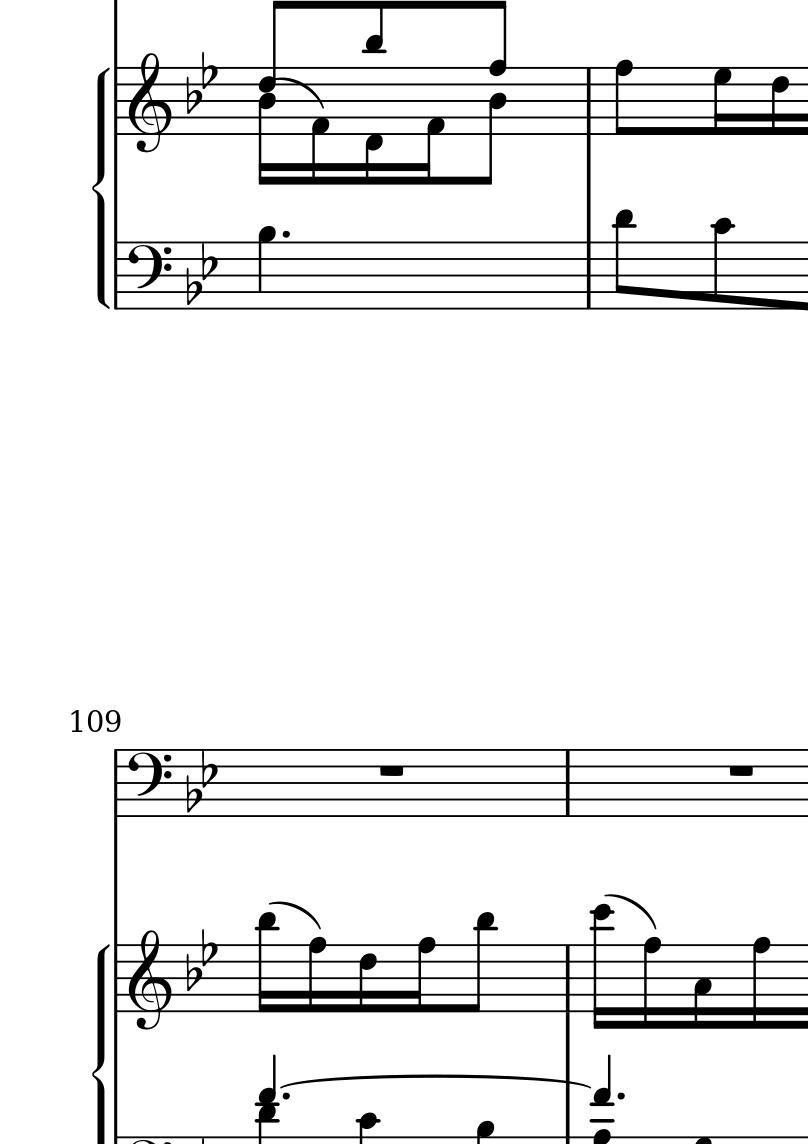0: (86, 706, 103, 735)
1: (70, 706, 85, 736)
16_-1: (365, 65, 386, 188)
16_1: (420, 63, 446, 187)
16_11: (256, 911, 279, 1019)
16_12: (592, 902, 617, 1030)
16_3: (691, 944, 714, 1030)
16_6: (769, 64, 791, 138), (357, 942, 379, 1015)
16_7: (712, 63, 734, 140)
16_8: (404, 935, 436, 1015), (641, 935, 664, 1033), (751, 938, 772, 1032), (307, 936, 329, 1016)
4_9: (256, 222, 278, 312)
8_1: (310, 64, 330, 189)
8_10: (708, 217, 736, 311)
8_11: (461, 910, 495, 1014), (612, 207, 638, 314)
8_8: (613, 58, 636, 137)
9: (105, 707, 122, 735)
B_F: (183, 925, 220, 994), (184, 747, 220, 816), (183, 48, 219, 116), (185, 240, 220, 306)
Brace: (91, 66, 112, 311)
Fclef: (124, 747, 173, 819), (125, 239, 173, 311)
Gclef: (128, 51, 172, 154), (128, 928, 172, 1031)
Rests1: (374, 761, 409, 780), (724, 761, 759, 780)
Single_barline: (580, 67, 601, 134), (580, 240, 600, 309), (559, 945, 578, 1012), (559, 751, 577, 816), (110, 944, 127, 1012), (110, 68, 127, 135), (108, 751, 125, 818), (110, 243, 126, 309)
Slur: (612, 892, 654, 930), (280, 73, 325, 107), (273, 901, 318, 928)
dot: (614, 1088, 629, 1104), (278, 1090, 293, 1104), (279, 228, 292, 241)
